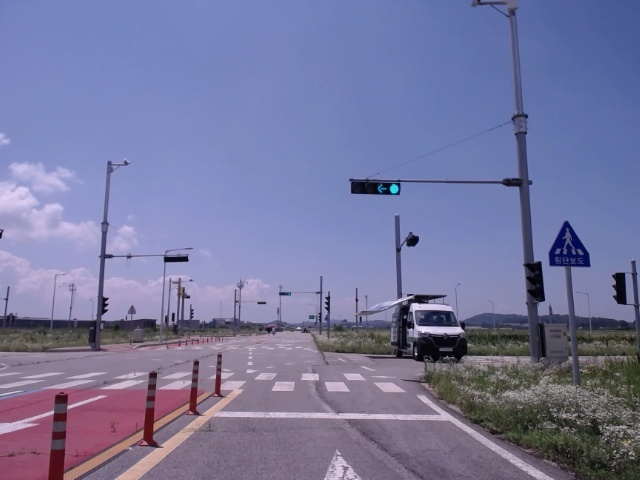all_green_4: (348, 180, 402, 194)
